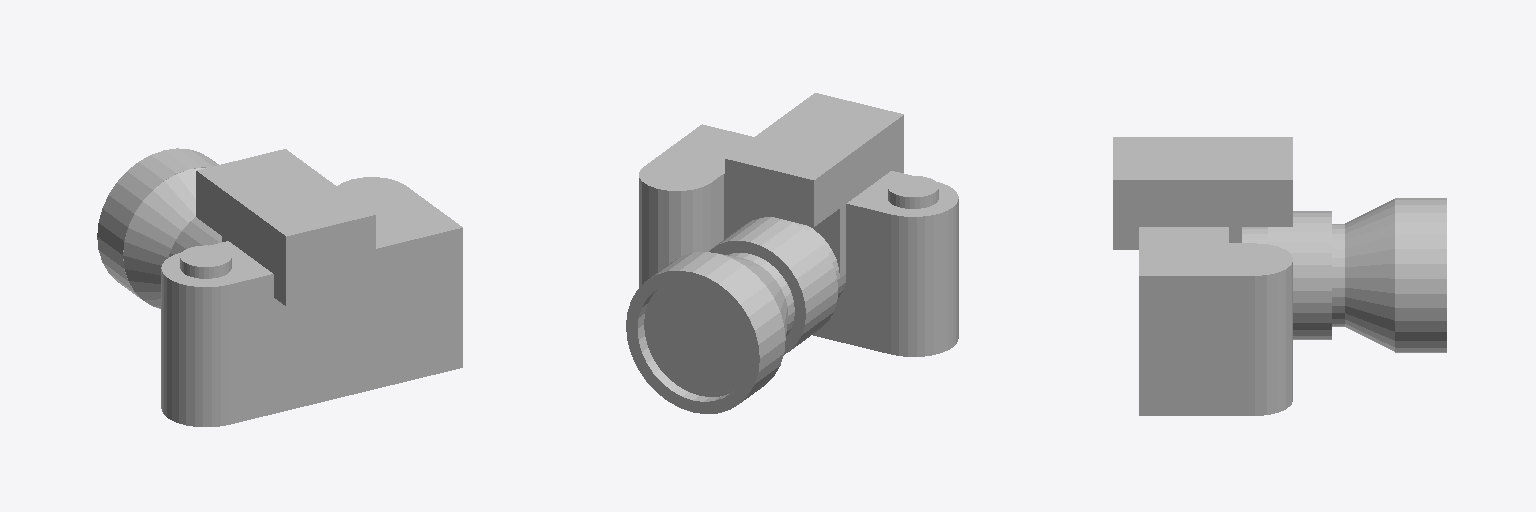
File: camera.obj
3 views of the same model, side by side, from view 1: azimuth 30°, elevation 25°; view 2: azimuth 150°, elevation 25°; view 3: azimuth 270°, elevation 25° (orthographic).
Parts seen in each view (by area): view 1: 7, 8, 2, 9, 6, 5, 3, 4, 1, 10; view 2: 5, 8, 7, 2, 4, 1, 9, 10, 3, 12, 11, 6; view 3: 7, 8, 5, 6, 1, 4, 10, 9, 12.
Part boxes in pixels (x1,y1,x2,y2): 7: (209, 195, 462, 424); 8: (196, 149, 361, 273); 2: (161, 252, 228, 426); 9: (274, 205, 375, 306); 6: (123, 168, 204, 308); 5: (97, 148, 218, 308); 3: (180, 245, 231, 278); 4: (169, 217, 221, 256); 1: (337, 177, 403, 197); 10: (353, 185, 417, 206); 5: (626, 252, 785, 413); 8: (725, 102, 891, 226); 7: (658, 124, 911, 353); 2: (891, 182, 958, 356); 4: (709, 217, 837, 354); 1: (639, 167, 710, 287); 9: (803, 93, 903, 172); 10: (644, 157, 723, 248); 3: (888, 176, 938, 208); 12: (728, 222, 845, 335); 11: (751, 204, 845, 277); 6: (721, 254, 787, 341); 7: (1139, 227, 1228, 415); 8: (1139, 137, 1292, 226); 5: (1395, 198, 1446, 352); 6: (1345, 199, 1394, 351); 1: (1255, 243, 1292, 415); 4: (1268, 211, 1331, 339); 10: (1229, 243, 1254, 415); 9: (1113, 137, 1138, 249); 12: (1242, 224, 1344, 326).
Size of the model in its own units: 24.5 by 16 by 25.91.